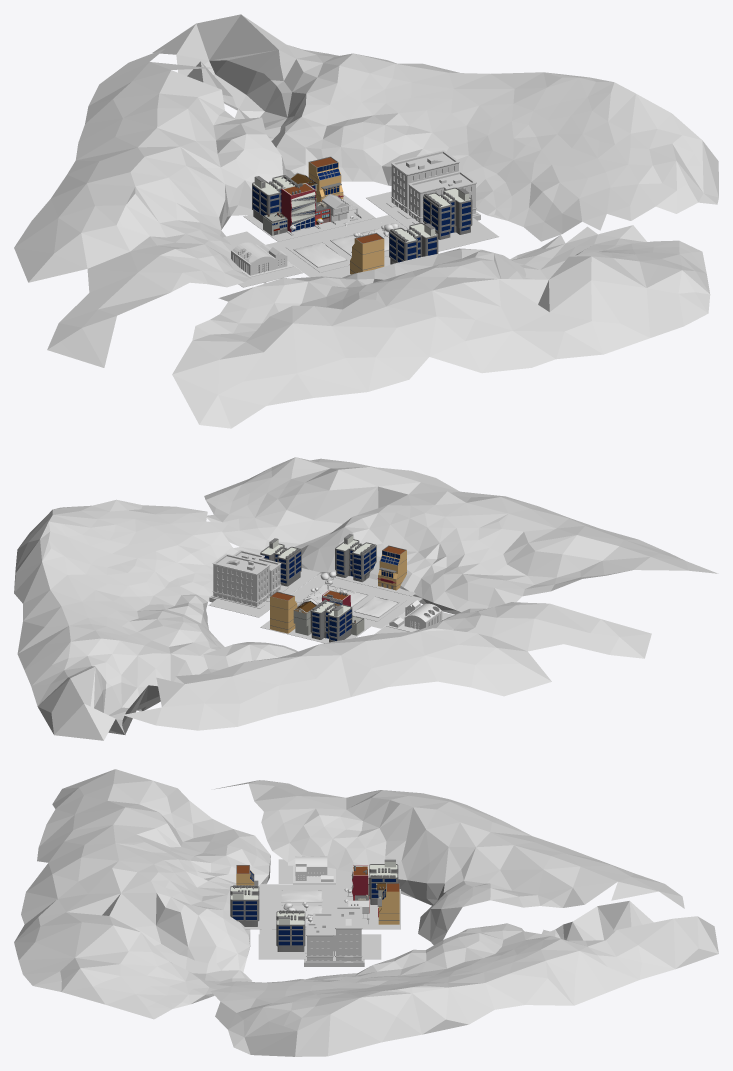
The model's file is Enviroment02.fbx.
3 renders of one model, top to bottom at view 1: azimuth 30°, elevation 25°; view 2: azimuth 150°, elevation 25°; view 3: azimuth 270°, elevation 25°, orthographic. The views are drawn at different scales.
Visible parts, largest first — view 1: SC_Mountains_002, SC_Mountains_001, SC_Mountains_003.001, Cube, Heavy_Residental_3, SC_Build_5.001, SC_Build_5.002, Heavy_Industrial_2, SC_Build_2.039, SC_Build_5.073, SC_Build_4.001, SC_Build_4.037 (+2 smaller); view 2: SC_Mountains_002, SC_Mountains_001, SC_Mountains_003.001, Heavy_Residental_3, Cube, SC_Build_5.002, SC_Build_5.073, SC_Build_5.001, Heavy_Industrial_2, SC_Build_4.001, SC_Build_4.037, SC_Mountains_001.003; view 3: SC_Mountains_001, SC_Mountains_002, SC_Mountains_003.001, Heavy_Residental_3, Cube, SC_Build_5.001, SC_Build_5.002, Heavy_Industrial_2, SC_Build_4.037, SC_Build_5.073, SC_Build_2.039, SC_Mountains_001.003.
Part boxes in pixels (x1,y1,x2,y2): SC_Mountains_002: [152, 14, 718, 241]; SC_Mountains_001: [172, 225, 710, 428]; SC_Mountains_003.001: [14, 49, 287, 367]; Cube: [223, 191, 498, 287]; Heavy_Residental_3: [386, 150, 480, 223]; SC_Build_5.001: [423, 187, 472, 239]; SC_Build_5.002: [389, 222, 438, 264]; Heavy_Industrial_2: [231, 242, 293, 277]; SC_Build_2.039: [281, 183, 316, 232]; SC_Build_5.073: [252, 175, 296, 223]; SC_Build_4.001: [349, 232, 384, 274]; SC_Build_4.037: [308, 156, 343, 202]; SC_Mountains_002: [14, 499, 236, 740]; SC_Mountains_001: [204, 457, 718, 614]; SC_Mountains_003.001: [123, 602, 651, 730]; Heavy_Residental_3: [209, 550, 288, 608]; Cube: [208, 568, 453, 643]; SC_Build_5.002: [335, 534, 376, 582]; SC_Build_5.073: [310, 599, 352, 642]; SC_Build_5.001: [260, 538, 301, 586]; Heavy_Industrial_2: [386, 600, 443, 631]; SC_Build_4.001: [377, 545, 406, 590]; SC_Build_4.037: [270, 591, 297, 633]; SC_Mountains_001.003: [356, 597, 397, 616]; SC_Mountains_001: [14, 769, 270, 1019]; SC_Mountains_002: [210, 901, 718, 1056]; SC_Mountains_003.001: [214, 780, 684, 944]; Heavy_Residental_3: [304, 906, 364, 966]; Cube: [258, 859, 400, 959]; SC_Build_5.001: [276, 910, 305, 951]; SC_Build_5.002: [230, 885, 259, 926]; Heavy_Industrial_2: [293, 856, 335, 884]; SC_Build_4.037: [377, 883, 399, 924]; SC_Build_5.073: [369, 859, 398, 904]; SC_Build_2.039: [351, 865, 368, 900]; SC_Mountains_001.003: [281, 890, 322, 901].
Bounding box in the file's own units: 44314 × 5211 × 46573.
